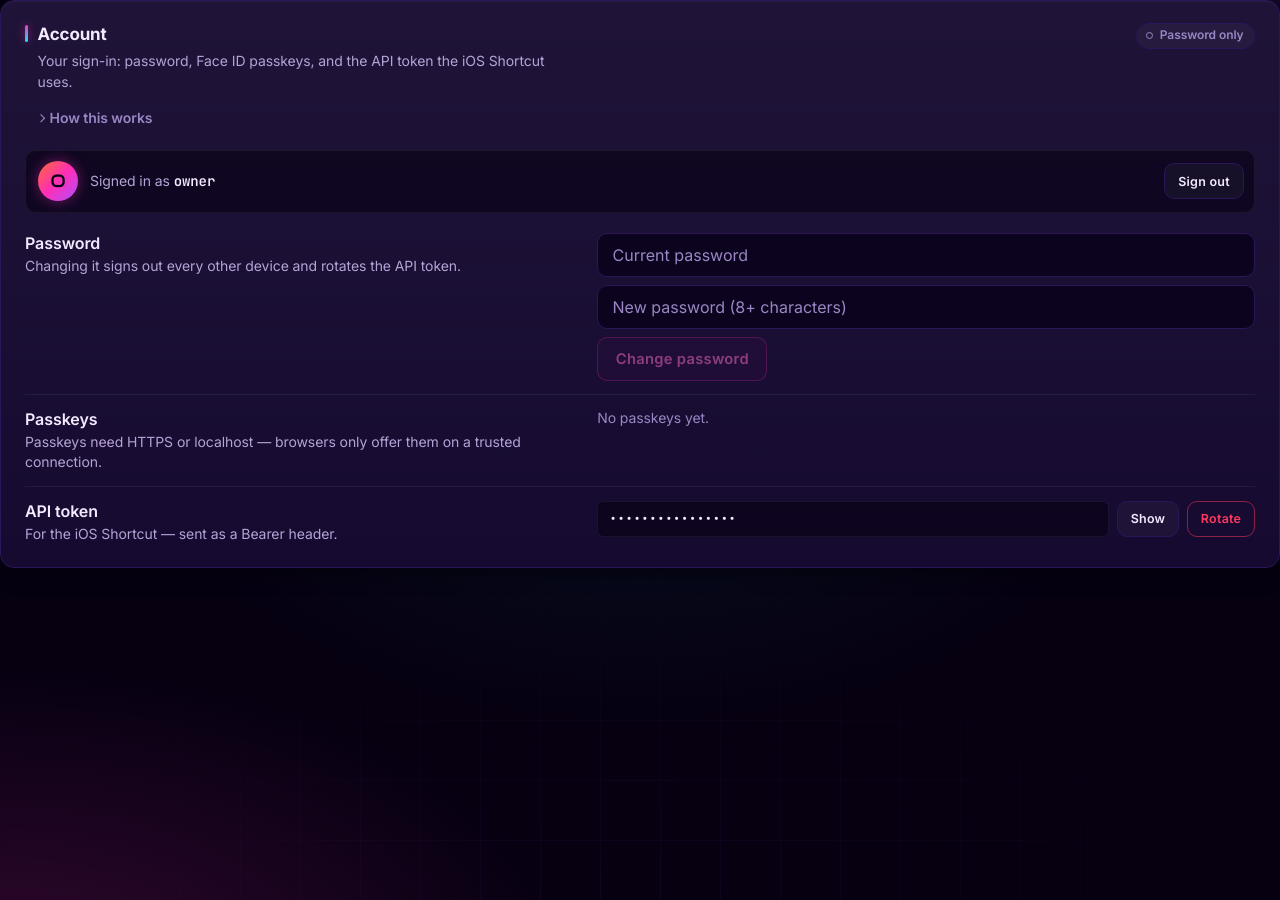
it: AccountCard — too many wrong passwords › shows the server's lockout sentence on the token prompt, not a generic wrong-password
The width and height of the screenshot is (1280, 900).
Click the button "Show" at (1148, 519), box [1117,501,1179,537]
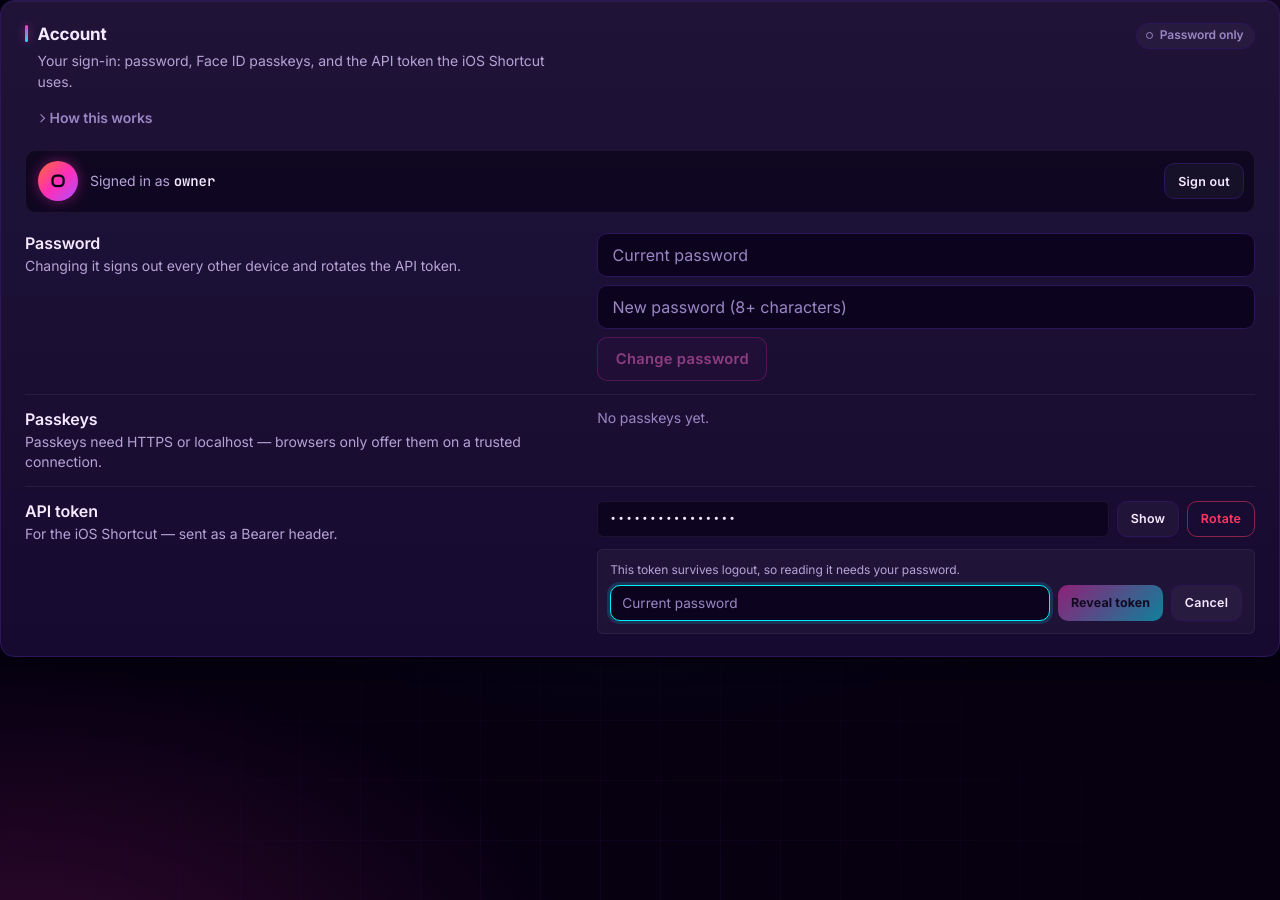
Type "right-password" into the password field named "Current password to reveal the API token" at (830, 603), box [610,585,1050,621]
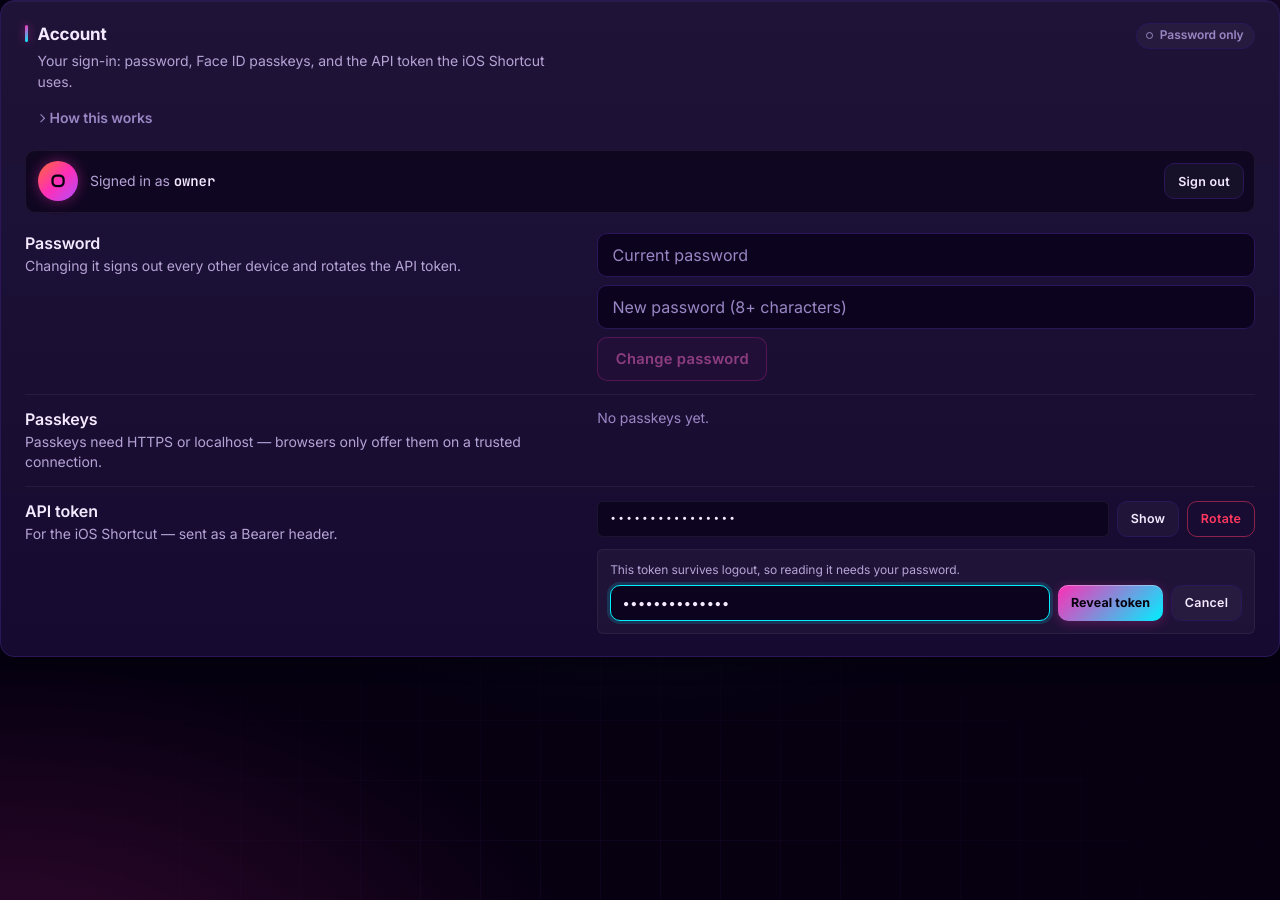
Click the button "Reveal token" at (1111, 603), box [1058,585,1163,621]
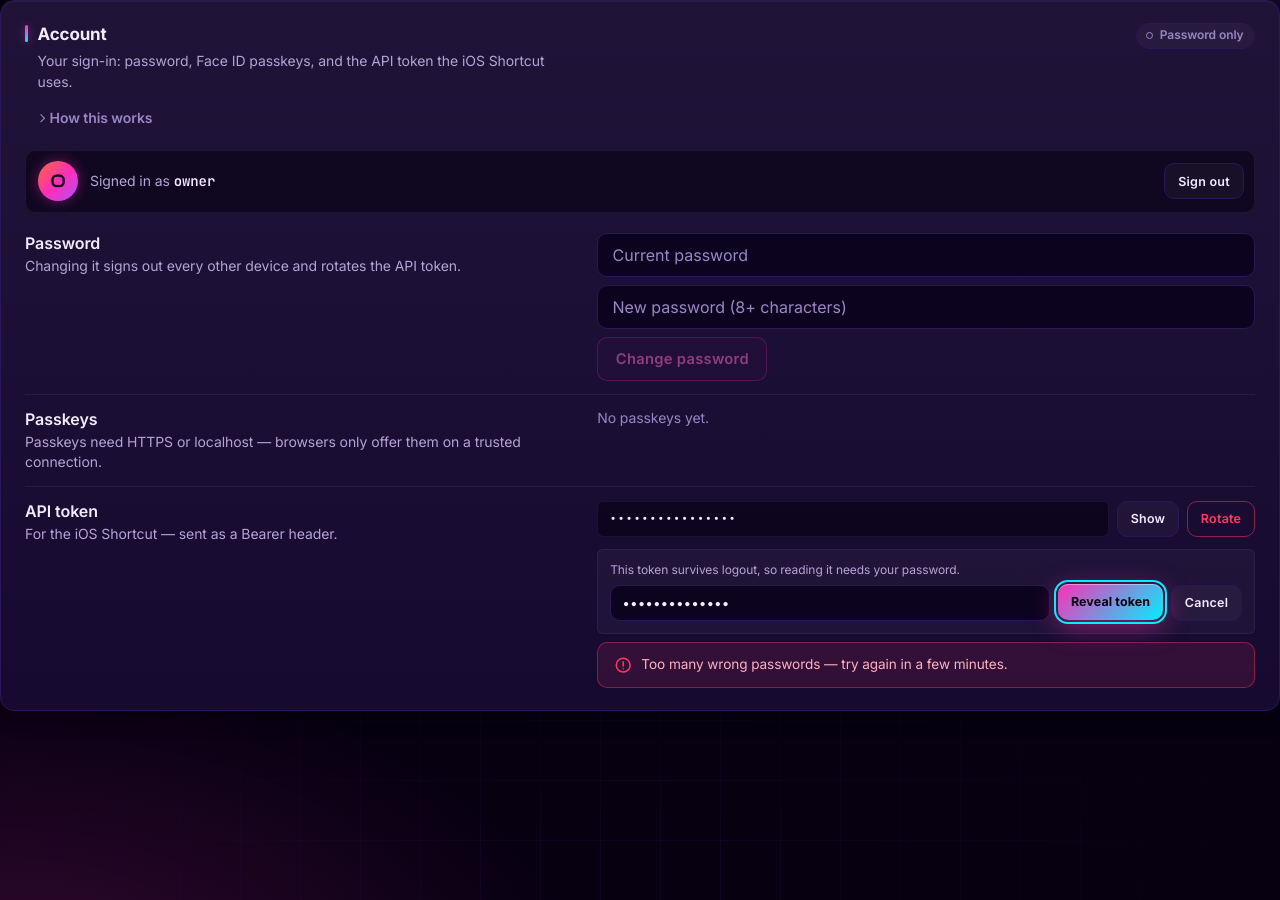
Check: the text "Too many wrong passwords — try again in a few minutes." is shown, box [641,655,1008,674]
